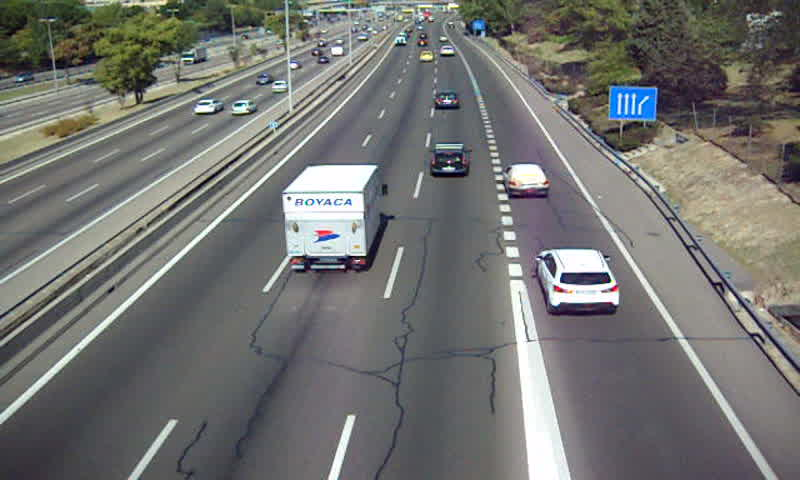car: (534, 248, 620, 315), (505, 163, 549, 196), (430, 141, 471, 176), (432, 91, 460, 111), (440, 45, 456, 57), (418, 50, 434, 61)
small-truck: (280, 164, 383, 271)
